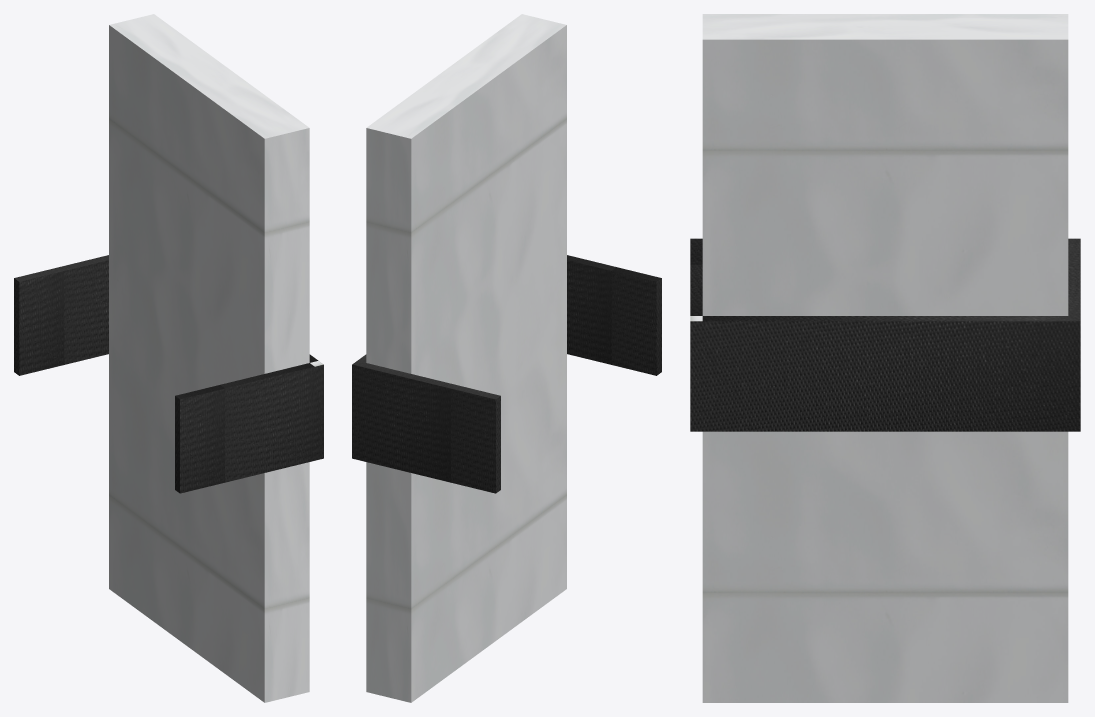
The model's file is WallLamp003.FBX.
The picture shows the model from 3 angles, left to right: view 1: azimuth 30°, elevation 25°; view 2: azimuth 150°, elevation 25°; view 3: azimuth 270°, elevation 25°; orthographic projection. The views are drawn at different scales.
Visible parts, largest first — view 1: WallLamp003; view 2: WallLamp003; view 3: WallLamp003.
Boxes of the visible parts, x1,y1,x2,y2 form: WallLamp003: (14, 14, 323, 702); WallLamp003: (352, 14, 661, 702); WallLamp003: (690, 14, 1080, 702).
Bounding box in the file's own units: 16 × 60 × 32.
